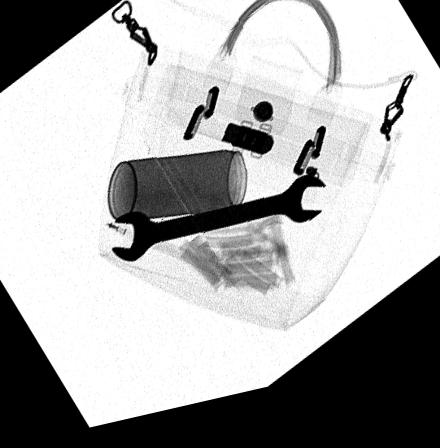Wrench: (107, 190, 329, 270)
